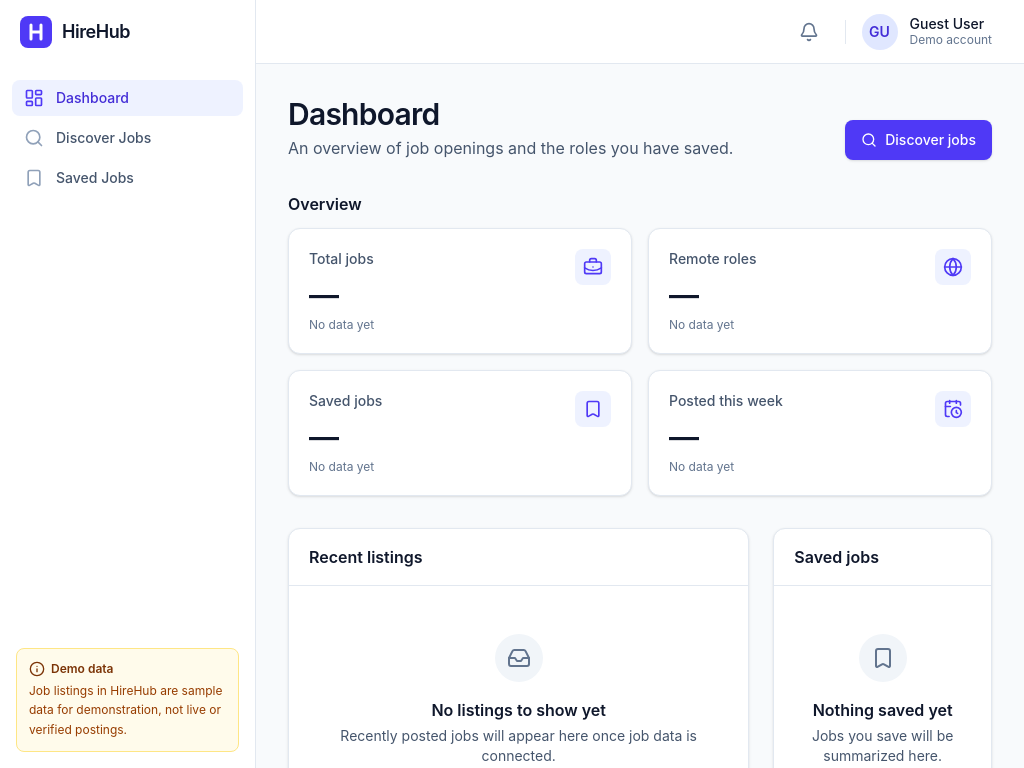
Scenario: notifications panel › toggles open and closed from its button
The width and height of the screenshot is (1024, 768).
Click the button named "Notifications" at (808,32), box [788,12,828,52]
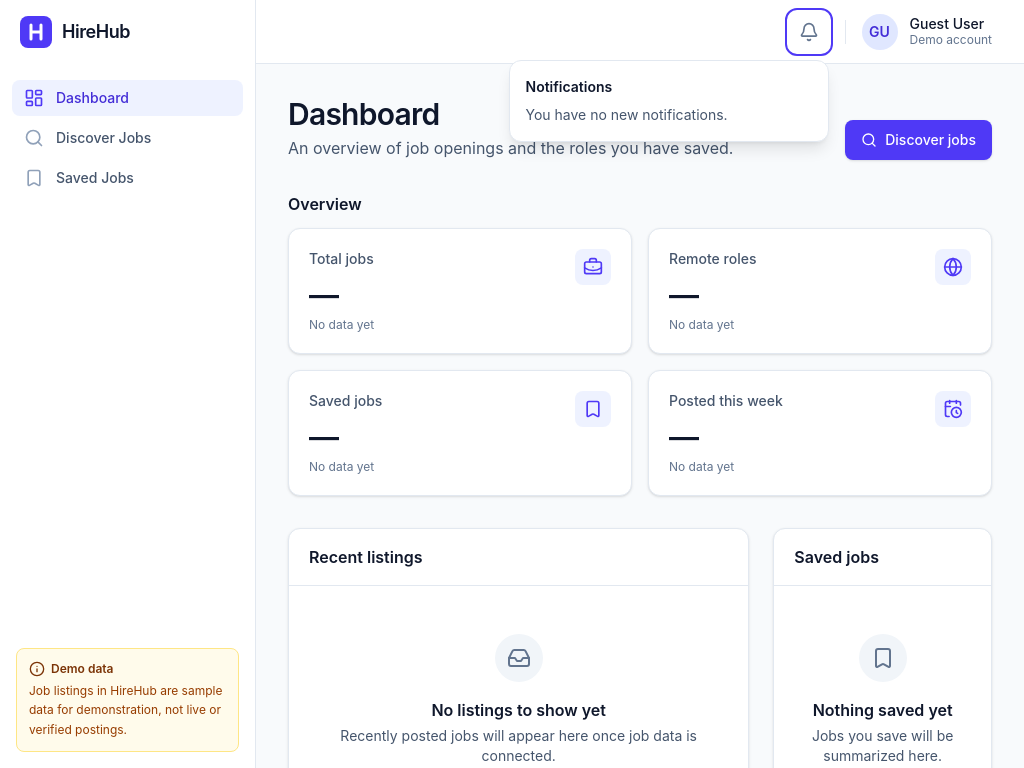
Expected: the text "You have no new notifications." is shown, [526,106,728,122]
Click the button named "Notifications" at (808,32), box [788,12,828,52]
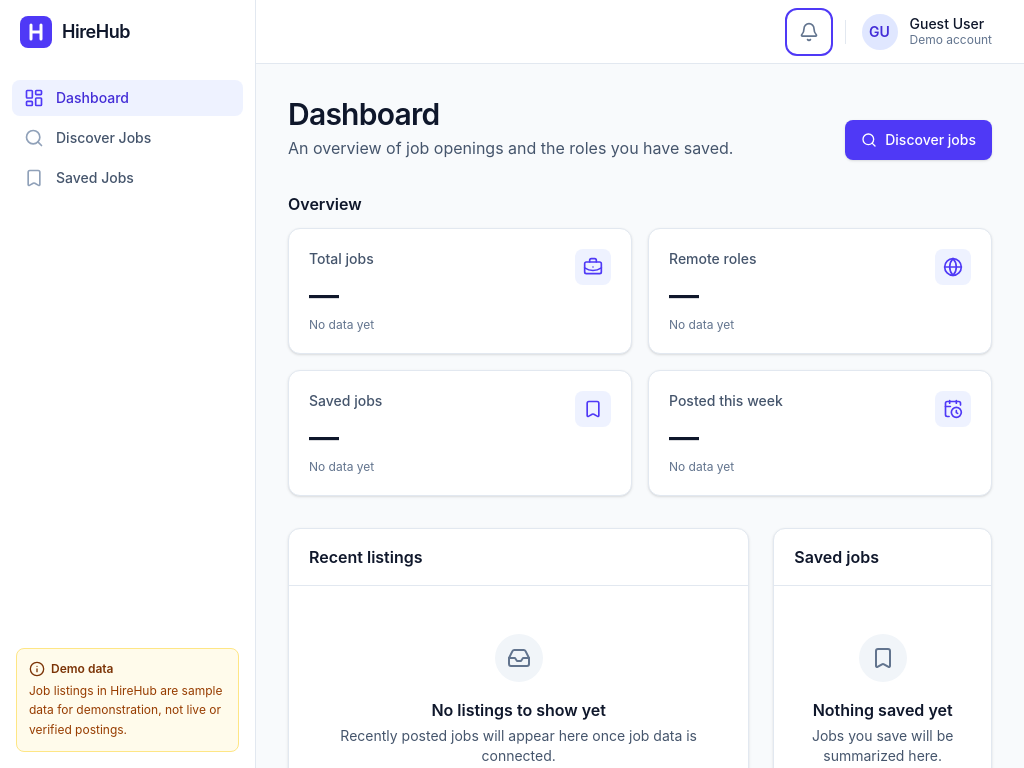
Expected: the heading "Notifications" is gone
